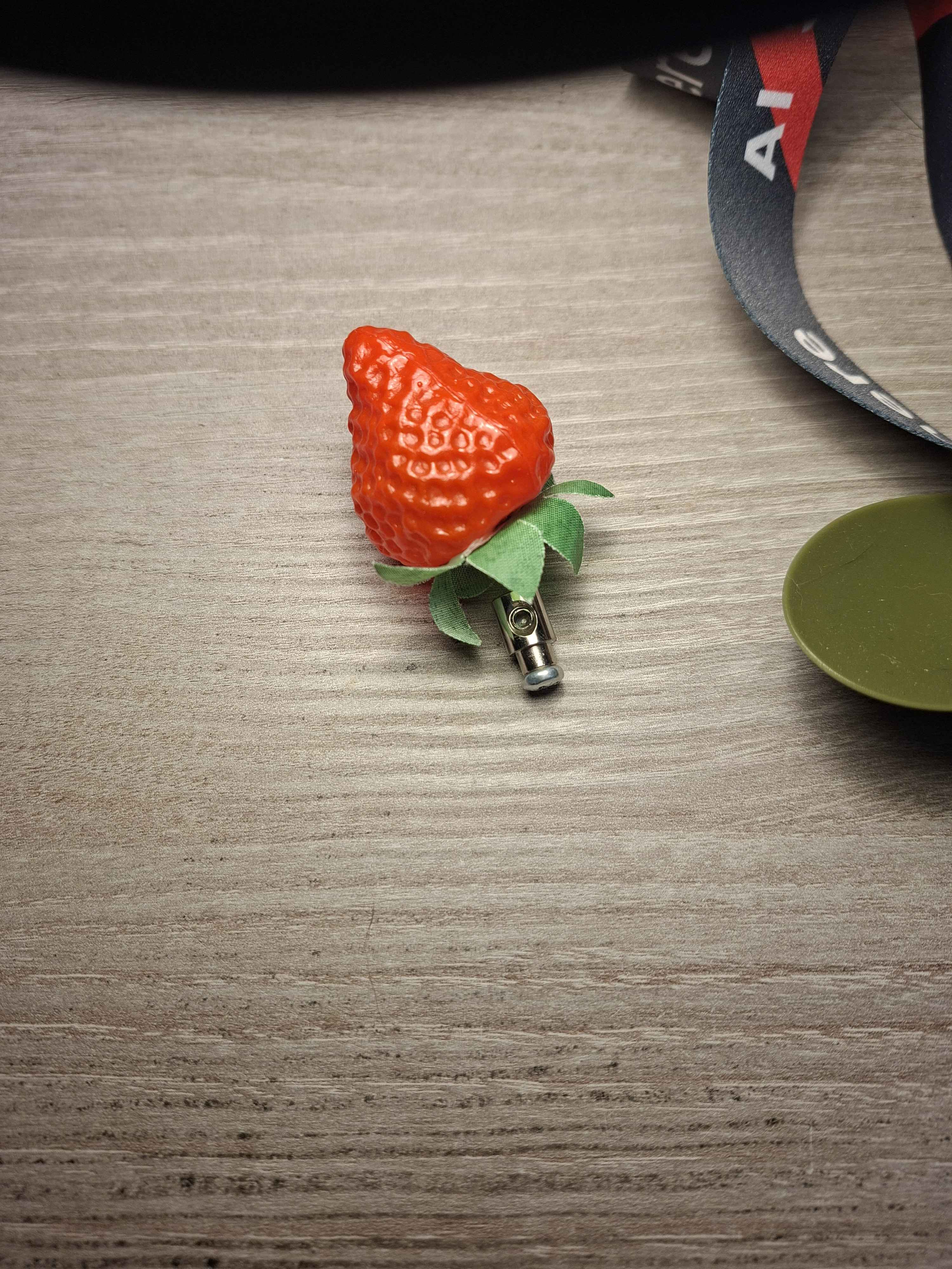Strawberry: (318, 309, 573, 582)
